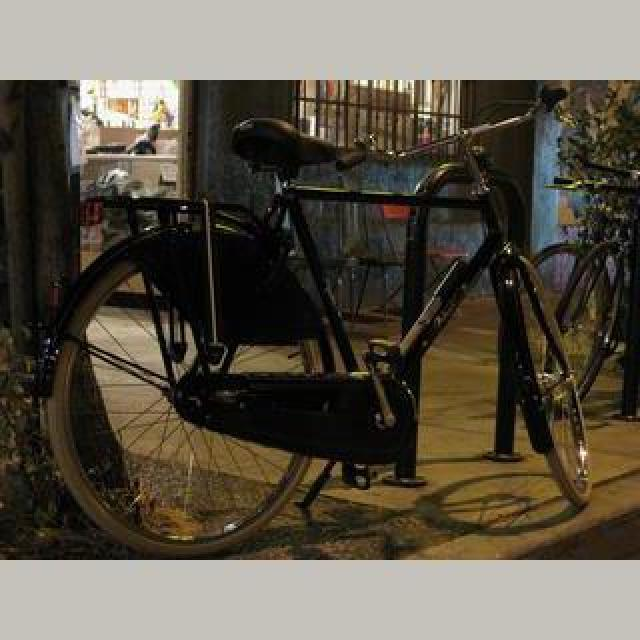Person: (30, 94, 602, 548), (542, 175, 640, 419)
